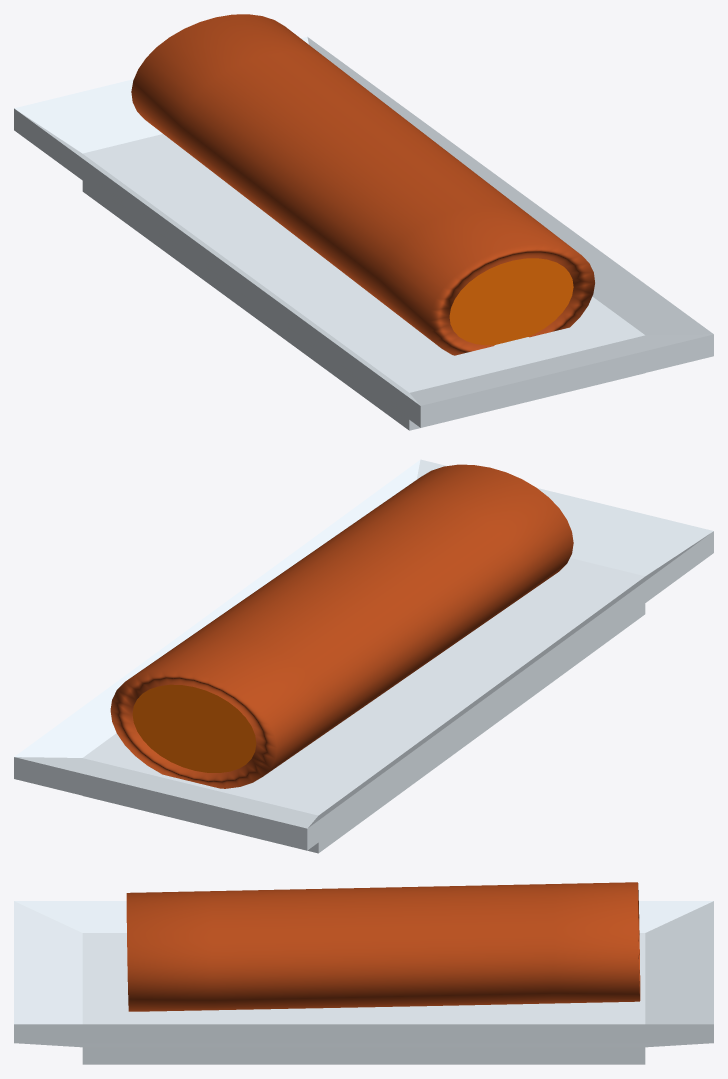
The model's file is ROTI GULUNG COKLAT .fbx.
3 views of the same model, one above another, from view 1: azimuth 30°, elevation 25°; view 2: azimuth 150°, elevation 25°; view 3: azimuth 270°, elevation 25° (orthographic). The views are drawn at different scales.
Visible parts, largest first — view 1: Cube, Cylinder.003, Cylinder.002; view 2: Cube, Cylinder.003, Cylinder.002; view 3: Cylinder.003, Cube.
Boxes of the visible parts, x1=… form: Cube: x1=14, y1=36, x2=713, y2=430; Cylinder.003: x1=131, y1=14, x2=594, y2=355; Cylinder.002: x1=449, y1=258, x2=573, y2=345; Cube: x1=14, y1=459, x2=713, y2=853; Cylinder.003: x1=110, y1=464, x2=573, y2=788; Cylinder.002: x1=132, y1=684, x2=256, y2=772; Cylinder.003: x1=126, y1=882, x2=640, y2=1011; Cube: x1=14, y1=901, x2=713, y2=1064.
Size of the model in its own units: 118 by 56.04 by 283.
